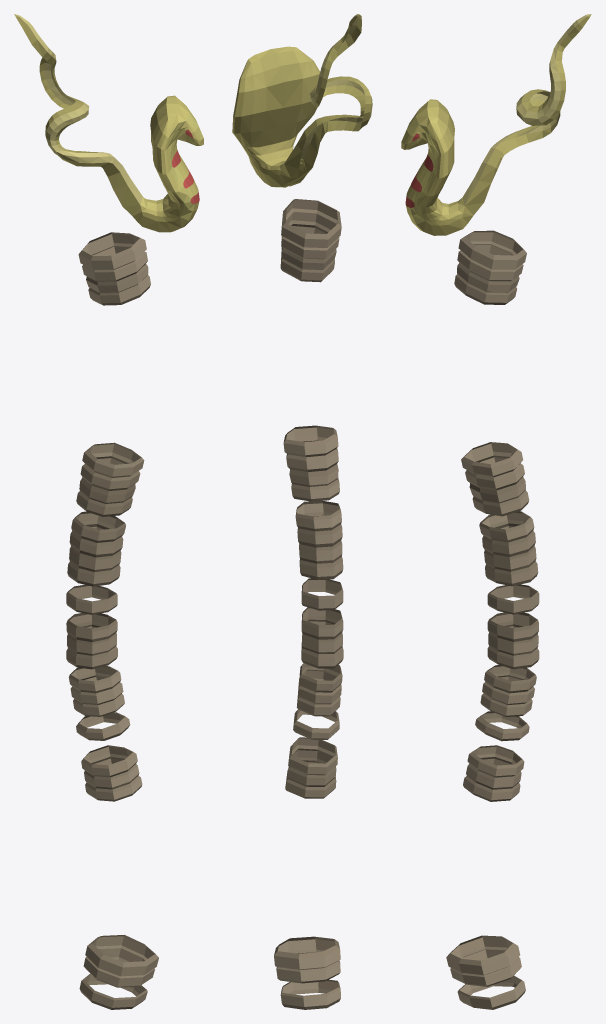
File: mediumBowAncientEgyptianSimpleHandle.glb
The picture shows the model from 3 angles, left to right: view 1: azimuth 90°, elevation 25°; view 2: azimuth 210°, elevation 25°; view 3: azimuth 270°, elevation 25°; orthographic projection. The views are drawn at different scales.
Parts seen in each view (by area): view 1: mediumBowAncientEgyptianSimpleHandle; view 2: mediumBowAncientEgyptianSimpleHandle; view 3: mediumBowAncientEgyptianSimpleHandle.
Boxes of the visible parts, x1,y1,x2,y2 form: mediumBowAncientEgyptianSimpleHandle: (14,14,203,1009); mediumBowAncientEgyptianSimpleHandle: (232,14,372,1009); mediumBowAncientEgyptianSimpleHandle: (401,14,591,1009).
Size of the model in its own units: 0.0835 by 0.9228 by 0.1609.
